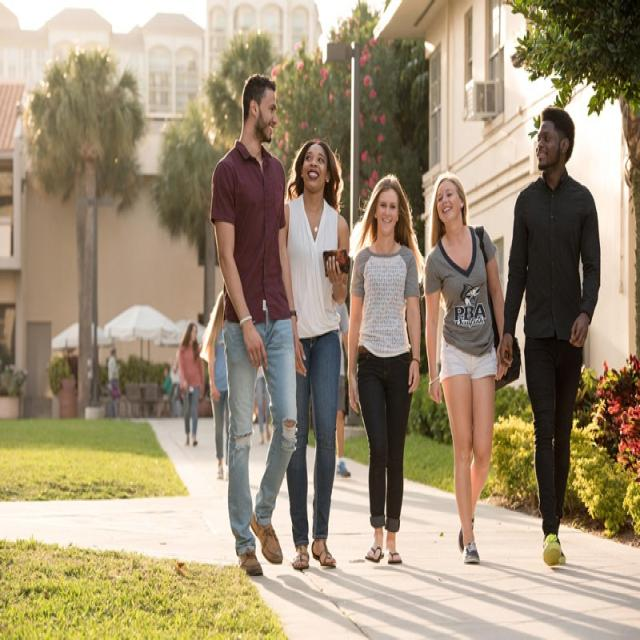body: (497, 104, 603, 570), (208, 71, 302, 579), (422, 171, 516, 569), (278, 134, 354, 572), (344, 173, 426, 568), (202, 287, 230, 484), (332, 290, 353, 481), (176, 320, 206, 449), (254, 364, 273, 445), (105, 344, 122, 421), (168, 350, 186, 422), (156, 362, 172, 420)
